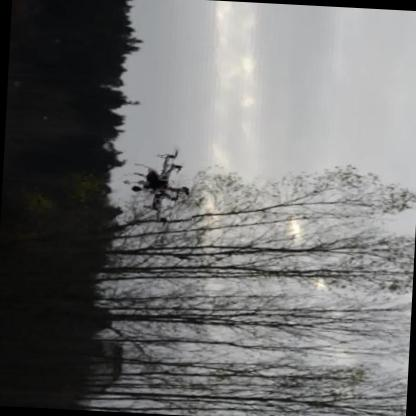drone: (116, 139, 198, 229)
